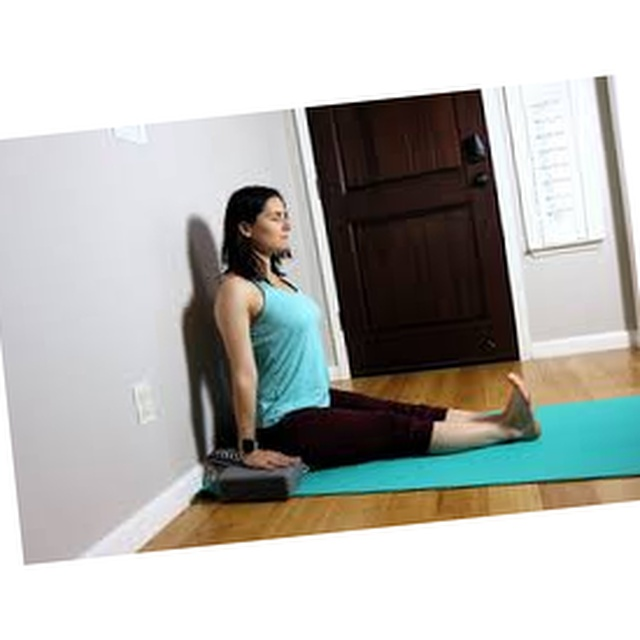Staff_Pose: (213, 185, 542, 474)
